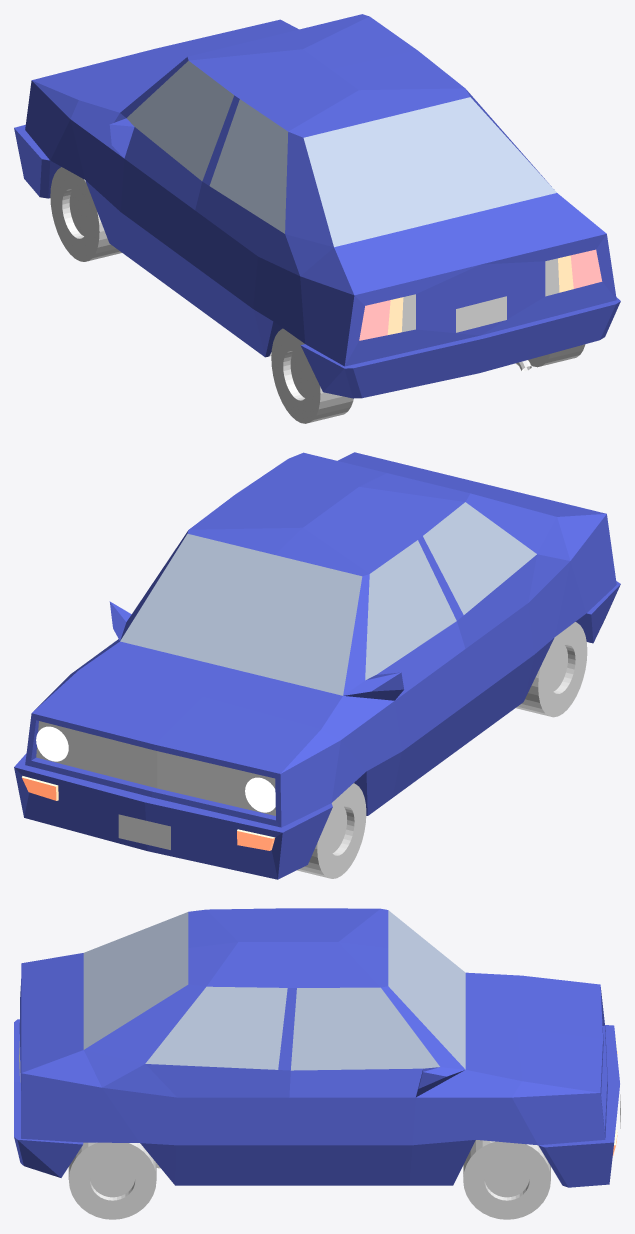
File: car_blue_flip.glb
3 renders of one model, top to bottom at view 1: azimuth 30°, elevation 25°; view 2: azimuth 150°, elevation 25°; view 3: azimuth 270°, elevation 25°, orthographic. The views are drawn at different scales.
Visible parts, largest first — view 1: Car.001; view 2: Car.001; view 3: Car.001.
Boxes of the visible parts, box(x1,y1,x2,y2) form: Car.001: box(14, 14, 620, 423); Car.001: box(14, 452, 620, 879); Car.001: box(14, 908, 620, 1219).
Bounding box in the file's own units: 3.91 × 3.14 × 7.87.
